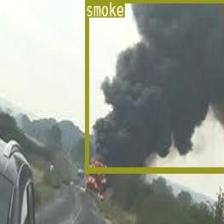smoke: (83, 0, 224, 171)
